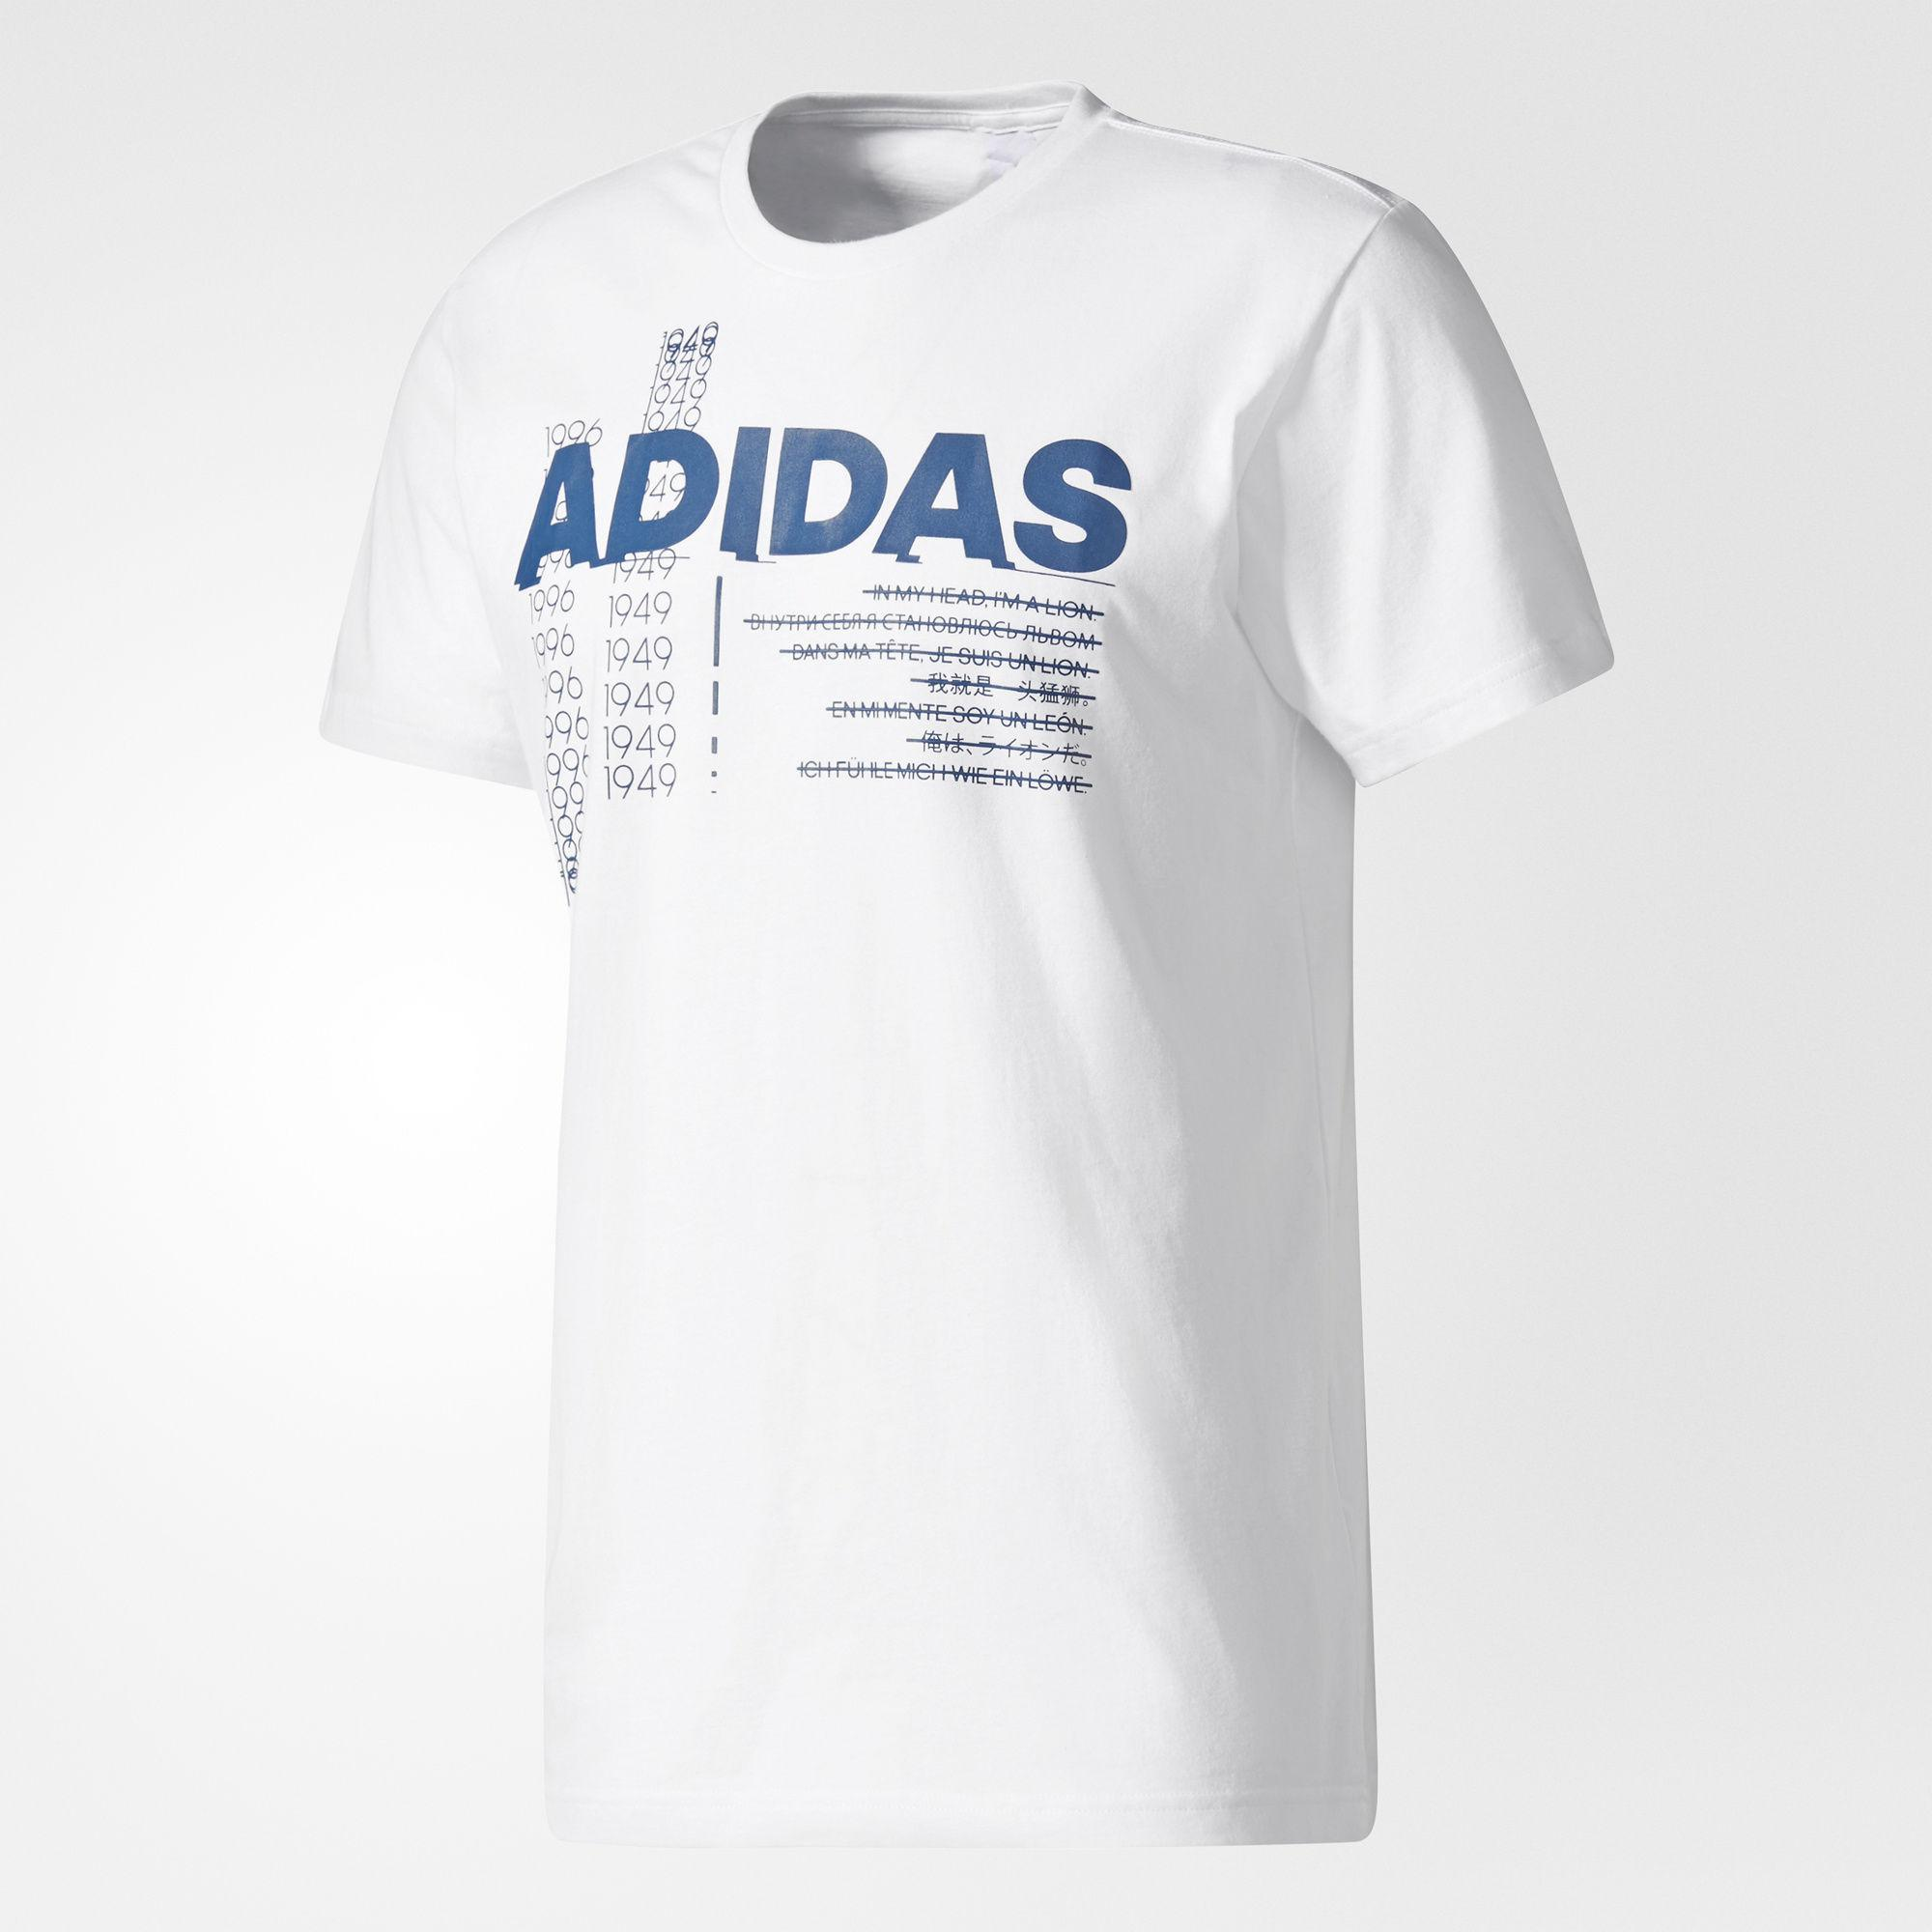teeshirt: (285, 69, 1622, 1916)
